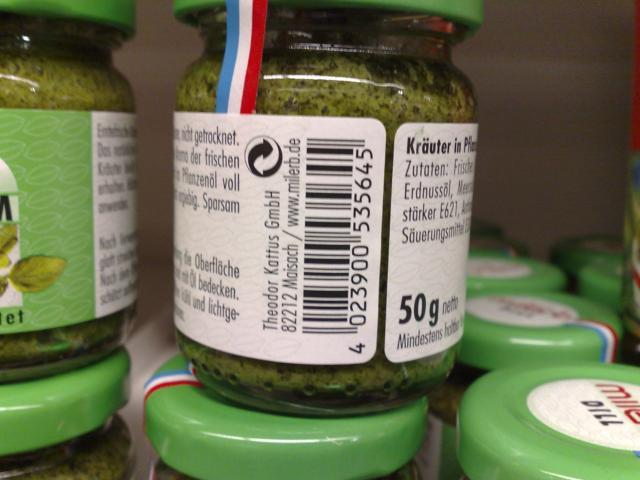Barcode: (299, 124, 374, 361)
